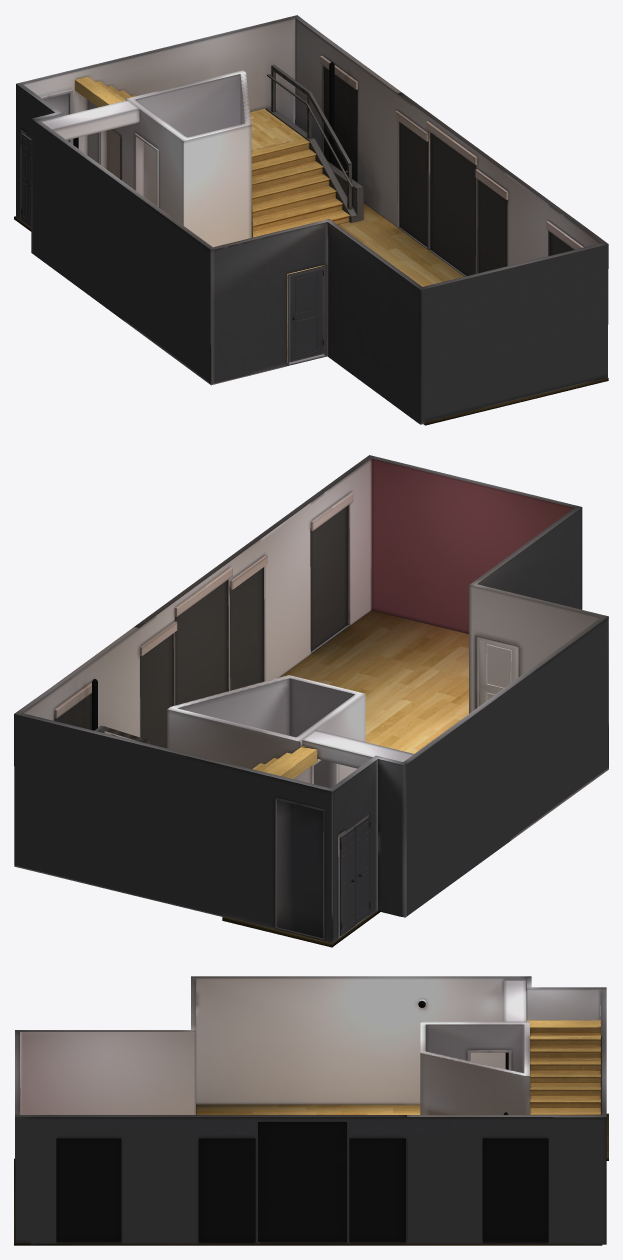
The model's file is Stage_v3_sc2_staging.glb.
3 views of the same model, one above another, from view 1: azimuth 30°, elevation 25°; view 2: azimuth 150°, elevation 25°; view 3: azimuth 270°, elevation 25° (orthographic). The views are drawn at different scales.
Parts seen in each view (by area): view 1: frl_apartment_wall_arch, frl_apartment_blinds, frl_apartment_stair, frl_apartment_floor, frl_apartment_door_01, frl_apartment_door_05, frl_apartment_door_part_03, frl_apartment_door_part_04, frl_apartment_pipe; view 2: frl_apartment_wall_arch, frl_apartment_blinds, frl_apartment_floor, frl_apartment_door_04, frl_apartment_door_01, frl_apartment_door_05, frl_apartment_door_06, frl_apartment_stair, frl_apartment_door_part_02; view 3: frl_apartment_wall_arch, frl_apartment_blinds, frl_apartment_stair, frl_apartment_floor.
Part boxes in pixels (x1,y1,x2,y2): frl_apartment_wall_arch: [16, 15, 608, 424]; frl_apartment_blinds: [320, 56, 583, 275]; frl_apartment_stair: [75, 65, 363, 237]; frl_apartment_floor: [14, 203, 608, 425]; frl_apartment_door_01: [289, 267, 323, 362]; frl_apartment_door_05: [21, 133, 31, 226]; frl_apartment_door_part_03: [287, 265, 327, 365]; frl_apartment_door_part_04: [135, 133, 158, 207]; frl_apartment_pipe: [73, 62, 334, 165]; frl_apartment_wall_arch: [14, 455, 608, 943]; frl_apartment_blinds: [54, 492, 353, 748]; frl_apartment_floor: [222, 610, 468, 947]; frl_apartment_door_04: [276, 800, 323, 938]; frl_apartment_door_01: [479, 637, 518, 706]; frl_apartment_door_05: [340, 827, 355, 935]; frl_apartment_door_06: [354, 816, 370, 924]; frl_apartment_stair: [94, 725, 317, 778]; frl_apartment_door_part_02: [275, 797, 324, 940]; frl_apartment_wall_arch: [15, 976, 606, 1244]; frl_apartment_blinds: [56, 1122, 548, 1242]; frl_apartment_stair: [526, 1020, 600, 1115]; frl_apartment_floor: [14, 1104, 608, 1245].
Bounding box in the file's own units: 7.26 × 3.14 × 12.93.
Materials: 1 (1 with a texture image).
